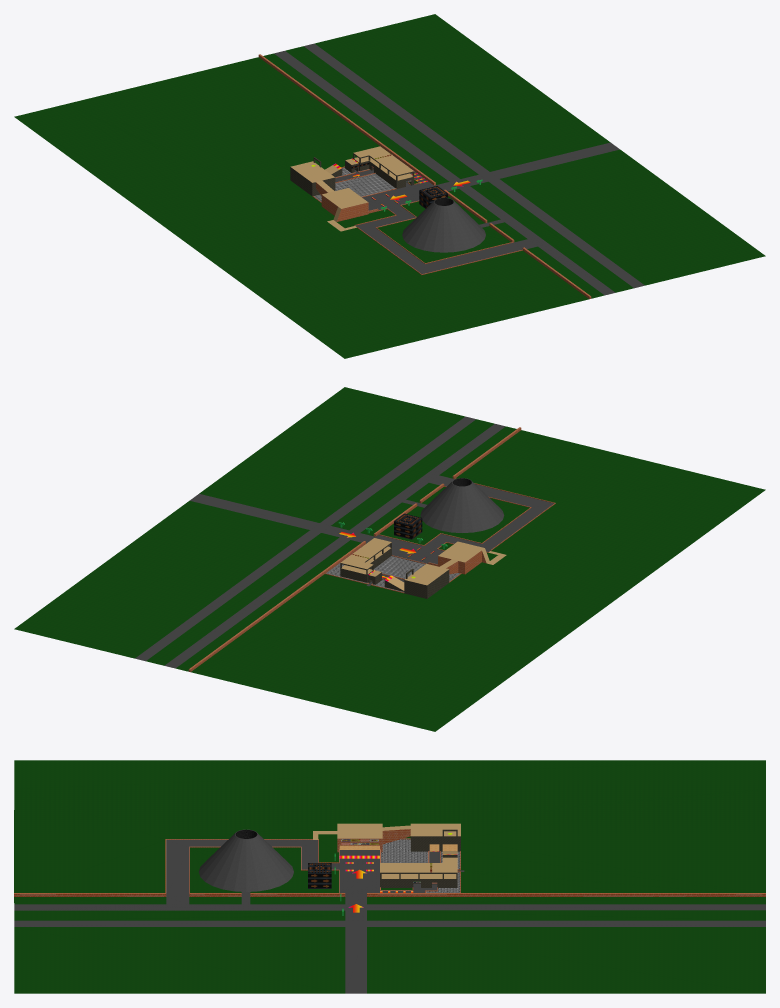
3 renders of one model, top to bottom at view 1: azimuth 30°, elevation 25°; view 2: azimuth 150°, elevation 25°; view 3: azimuth 270°, elevation 25°, orthographic. The views are drawn at different scales.
Visible parts, largest first — view 1: Top_City_SKP__Grass, Top_City_SKP__Asphalt, Top_City_SKP__Sand, Top_City_SKP__Wall_Bricks_2, Top_City_SKP__Wall, Top_City_SKP__Wall_Bricks, Top_City_SKP__Lava; view 2: Top_City_SKP__Grass, Top_City_SKP__Asphalt, Top_City_SKP__Sand, Top_City_SKP__Wall_Bricks_2, Top_City_SKP__Wall, Top_City_SKP__Wall_Bricks, Top_City_SKP__Lava, Top_City_SKP__Arrow; view 3: Top_City_SKP__Grass, Top_City_SKP__Asphalt, Top_City_SKP__Wall_Bricks_2, Top_City_SKP__Sand, Top_City_SKP__Wall, Top_City_SKP__Wall_Bricks, Top_City_SKP__Lava, Top_City_SKP__Arrow, Top_City_SKP__Boost.
Boxes of the visible parts, x1,y1,x2,y2 form: Top_City_SKP__Grass: (14,14,765,358); Top_City_SKP__Asphalt: (274,43,644,295); Top_City_SKP__Sand: (290,146,413,231); Top_City_SKP__Wall_Bricks_2: (258,55,591,299); Top_City_SKP__Wall: (290,153,414,206); Top_City_SKP__Wall_Bricks: (259,54,590,296); Top_City_SKP__Lava: (314,159,403,201); Top_City_SKP__Grass: (14,387,765,731); Top_City_SKP__Asphalt: (135,416,553,668); Top_City_SKP__Sand: (340,538,506,590); Top_City_SKP__Wall_Bricks_2: (188,428,555,671); Top_City_SKP__Wall: (340,542,449,598); Top_City_SKP__Wall_Bricks: (189,427,555,669); Top_City_SKP__Lava: (326,556,460,592); Top_City_SKP__Arrow: (394,513,422,539); Top_City_SKP__Grass: (14,760,765,993); Top_City_SKP__Asphalt: (14,829,765,993); Top_City_SKP__Wall_Bricks_2: (14,829,765,896); Top_City_SKP__Sand: (313,823,460,878); Top_City_SKP__Wall: (380,829,460,887); Top_City_SKP__Wall_Bricks: (14,838,765,893); Top_City_SKP__Lava: (381,839,460,892); Top_City_SKP__Arrow: (308,863,331,888); Top_City_SKP__Boost: (339,851,457,912).
Bounding box in the file's own units: 232504 × 17432 × 316286.
Materials: 19 (19 with a texture image).
